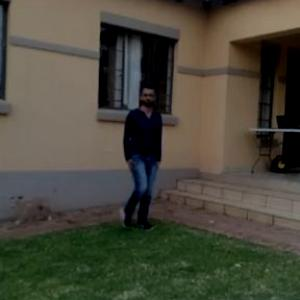follow: (115, 87, 162, 228)
